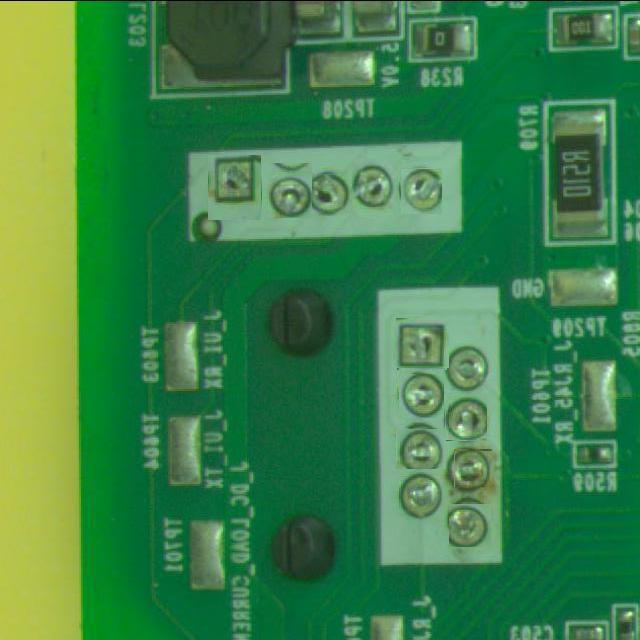lack_of_part: (208, 154, 262, 220), (260, 164, 314, 216), (396, 317, 448, 369), (352, 158, 394, 219), (396, 428, 446, 469), (444, 394, 488, 440), (399, 374, 444, 418), (400, 168, 442, 214), (448, 504, 492, 546), (306, 172, 348, 215), (444, 344, 486, 384), (454, 450, 492, 488)
